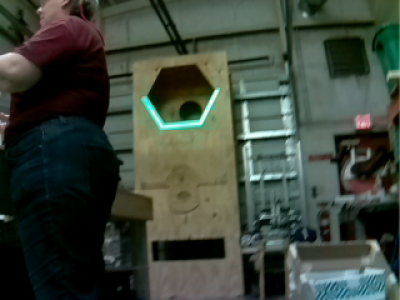target: (140, 89, 220, 129)
